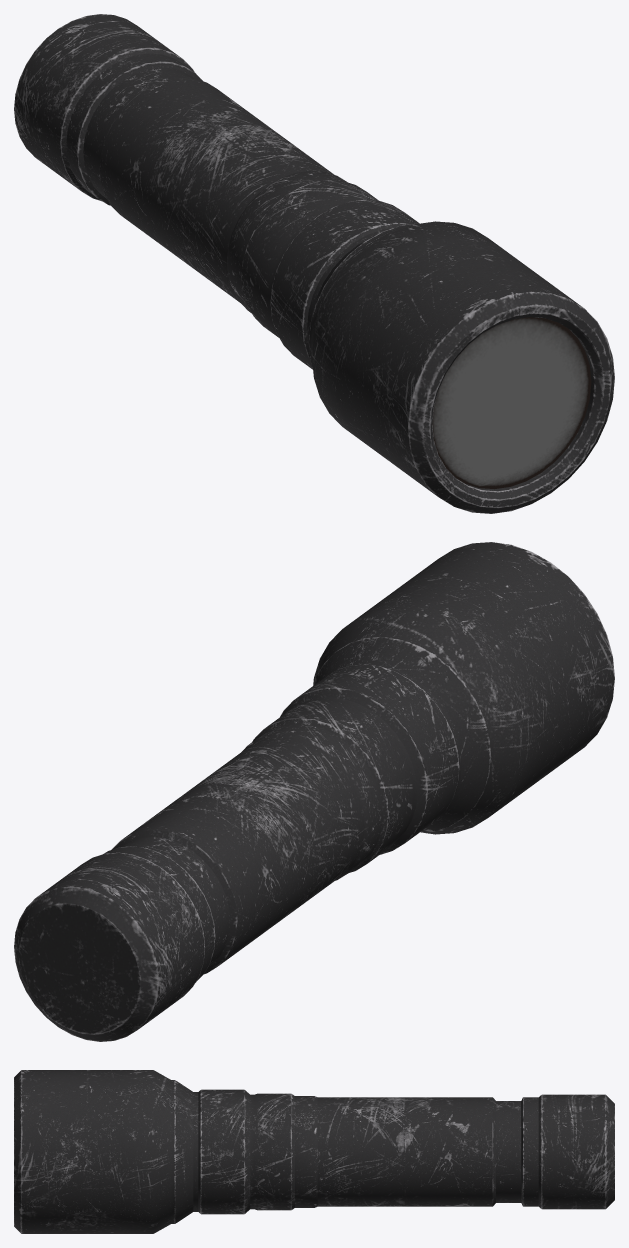
Rendered from simple_flashlight.glb.
3 renders of one model, top to bottom at view 1: azimuth 30°, elevation 25°; view 2: azimuth 150°, elevation 25°; view 3: azimuth 270°, elevation 25°, orthographic. The views are drawn at different scales.
Visible parts, largest first — view 1: SM_Flashlight; view 2: SM_Flashlight; view 3: SM_Flashlight.
Boxes of the visible parts, <box> form: SM_Flashlight: <box>14,14,614,513</box>; SM_Flashlight: <box>14,542,614,1041</box>; SM_Flashlight: <box>14,1070,614,1233</box>.
Bounding box in the file's own units: 0.0503 × 0.0503 × 0.1844.
2 materials, 2 textured.
